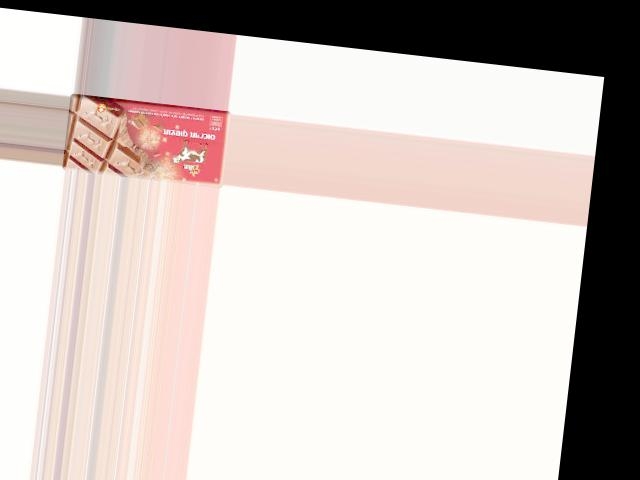chocolate: (63, 93, 231, 187)
